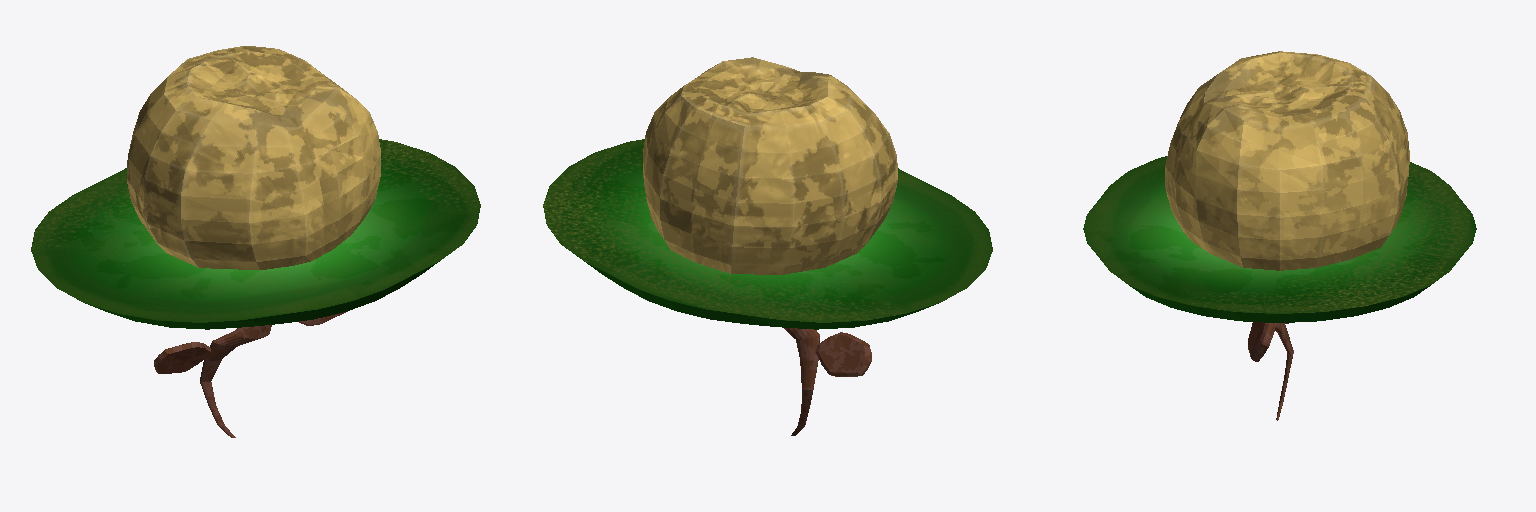
3 views of the same model, side by side, from view 1: azimuth 30°, elevation 25°; view 2: azimuth 150°, elevation 25°; view 3: azimuth 270°, elevation 25° (orthographic).
Visible parts, largest first — view 1: Sphere, Sphere.001, Sphere.002, Sphere.003; view 2: Sphere, Sphere.001, Sphere.003, Sphere.002; view 3: Sphere, Sphere.001, Sphere.004, Sphere.002.
Part boxes in pixels (x1,y1,x2,y2): Sphere: (126,46,380,269); Sphere.001: (31,139,480,329); Sphere.002: (200,325,271,437); Sphere.003: (154,342,210,373); Sphere: (643,57,897,274); Sphere.001: (543,139,992,329); Sphere.003: (816,332,871,376); Sphere.002: (784,328,819,435); Sphere: (1165,51,1409,270); Sphere.001: (1083,156,1476,322); Sphere.004: (1248,322,1276,361); Sphere.002: (1275,323,1293,420).
Size of the model in its own units: 359 by 301 by 306.
3 materials, 3 textured.